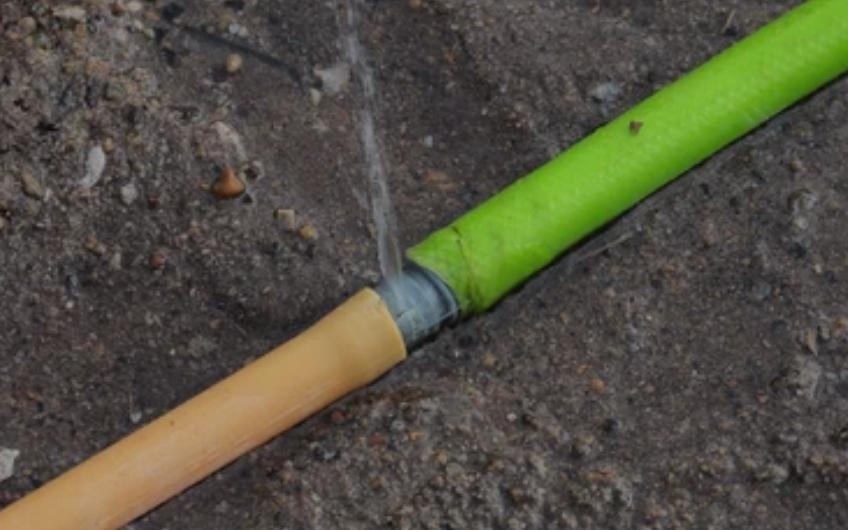pipe burst: (336, 0, 410, 313)
